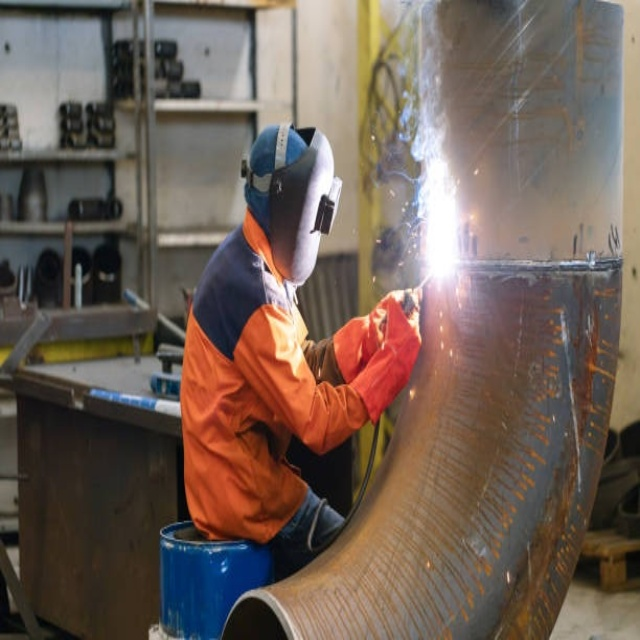Guantes: (327, 278, 428, 420)
